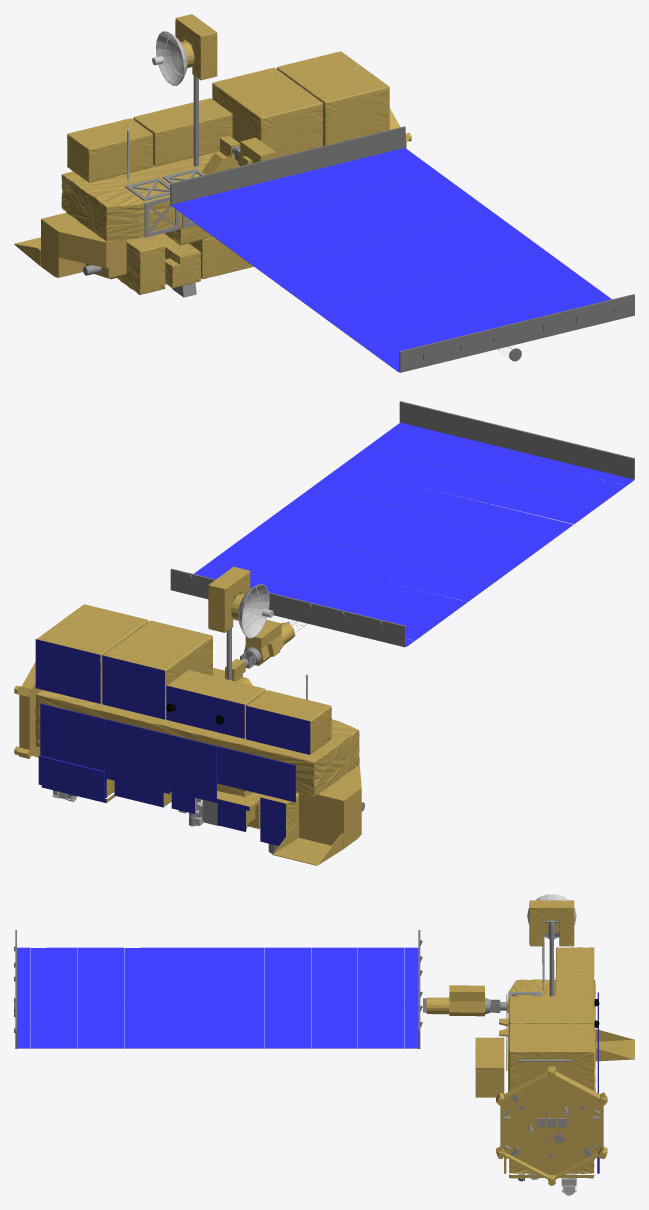
Rendered from terra.glb.
3 views of the same model, one above another, from view 1: azimuth 30°, elevation 25°; view 2: azimuth 150°, elevation 25°; view 3: azimuth 270°, elevation 25° (orthographic). The views are drawn at different scales.
Visible parts, largest first — view 1: Terra_vFINAL [Layer17], Terra_vFINAL [Layer16], Terra_vFINAL [Layer1], Terra_vFINAL [Layer13], Terra_vFINAL [Layer18], Terra_vFINAL [Layer2], Terra_vFINAL [Layer11], Terra_vFINAL [Layer12], Terra_vFINAL [Layer19], Terra_vFINAL [Layer3], Terra_vFINAL [Layer9], Terra_vFINAL [Layer4] (+2 smaller); view 2: Terra_vFINAL [Layer17], Terra_vFINAL [Layer15], Terra_vFINAL [Layer16], Terra_vFINAL [Layer18], Terra_vFINAL [Layer1], Terra_vFINAL [Layer13], Terra_vFINAL [Layer2], Terra_vFINAL [Layer11], Terra_vFINAL [Layer9], Terra_vFINAL [Layer12], Terra_vFINAL [Layer20], Terra_vFINAL [Layer19]; view 3: Terra_vFINAL [Layer17], Terra_vFINAL [Layer18], Terra_vFINAL [Layer2], Terra_vFINAL [Layer13], Terra_vFINAL [Layer19], Terra_vFINAL [Layer10], Terra_vFINAL [Layer9], Terra_vFINAL [Layer11], Terra_vFINAL [Layer16], Terra_vFINAL [Layer1], Terra_vFINAL [Layer12], Terra_vFINAL [Layer21].
Part boxes in pixels (x1,y1,x2,y2): Terra_vFINAL [Layer17]: (171, 148, 611, 371); Terra_vFINAL [Layer16]: (170, 126, 634, 372); Terra_vFINAL [Layer1]: (61, 151, 219, 245); Terra_vFINAL [Layer13]: (212, 67, 322, 157); Terra_vFINAL [Layer18]: (14, 41, 411, 279); Terra_vFINAL [Layer2]: (276, 51, 389, 145); Terra_vFINAL [Layer11]: (67, 118, 152, 182); Terra_vFINAL [Layer12]: (133, 98, 232, 166); Terra_vFINAL [Layer19]: (83, 75, 240, 297); Terra_vFINAL [Layer3]: (117, 236, 165, 294); Terra_vFINAL [Layer9]: (175, 14, 217, 80); Terra_vFINAL [Layer4]: (153, 233, 200, 288); Terra_vFINAL [Layer17]: (194, 422, 634, 646); Terra_vFINAL [Layer15]: (35, 639, 310, 845); Terra_vFINAL [Layer16]: (170, 401, 634, 647); Terra_vFINAL [Layer18]: (14, 593, 361, 865); Terra_vFINAL [Layer1]: (35, 672, 359, 797); Terra_vFINAL [Layer13]: (103, 620, 213, 718); Terra_vFINAL [Layer2]: (37, 604, 148, 702); Terra_vFINAL [Layer11]: (247, 690, 331, 754); Terra_vFINAL [Layer9]: (208, 566, 250, 632); Terra_vFINAL [Layer12]: (167, 670, 265, 737); Terra_vFINAL [Layer20]: (238, 584, 273, 638); Terra_vFINAL [Layer19]: (69, 628, 364, 853); Terra_vFINAL [Layer17]: (17, 947, 418, 1048); Terra_vFINAL [Layer18]: (426, 920, 634, 1185); Terra_vFINAL [Layer2]: (509, 1024, 594, 1091); Terra_vFINAL [Layer13]: (509, 996, 594, 1025); Terra_vFINAL [Layer19]: (485, 920, 600, 1181); Terra_vFINAL [Layer10]: (475, 1037, 504, 1097); Terra_vFINAL [Layer9]: (529, 900, 574, 946); Terra_vFINAL [Layer11]: (556, 947, 594, 995); Terra_vFINAL [Layer16]: (14, 930, 426, 1048); Terra_vFINAL [Layer1]: (508, 979, 595, 1091); Terra_vFINAL [Layer12]: (555, 975, 593, 996); Terra_vFINAL [Layer21]: (527, 946, 576, 1195).
Bounding box in the file's own units: 8.73 × 6.59 × 16.7.
